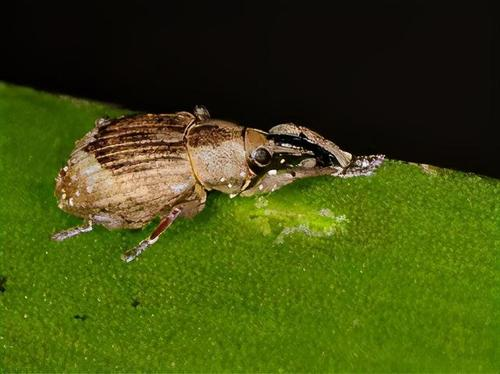Curculionidae: (49, 102, 385, 264)
